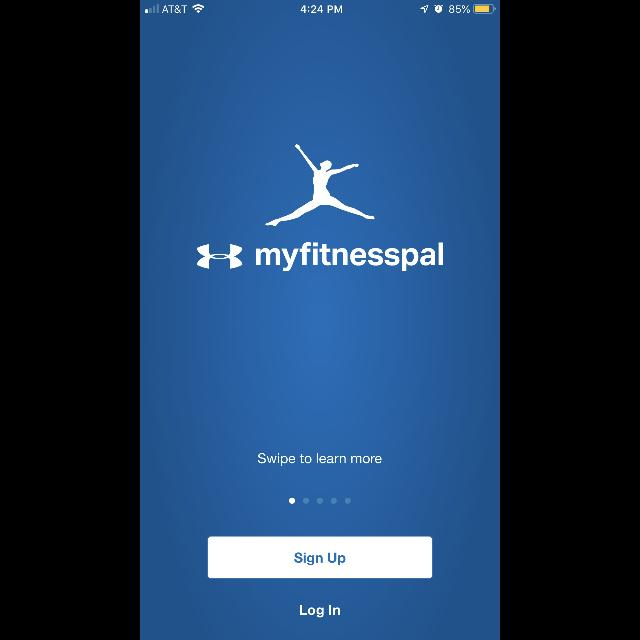image: (266, 144, 374, 226), (197, 244, 243, 270)
pageindicator: (289, 498, 351, 504)
text: (256, 242, 444, 272), (258, 454, 382, 466), (300, 604, 340, 618)
textbutton: (207, 535, 433, 579)
uppertaskbar: (140, 0, 500, 14)
